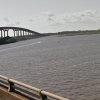Bridge: (3, 18, 44, 40)
